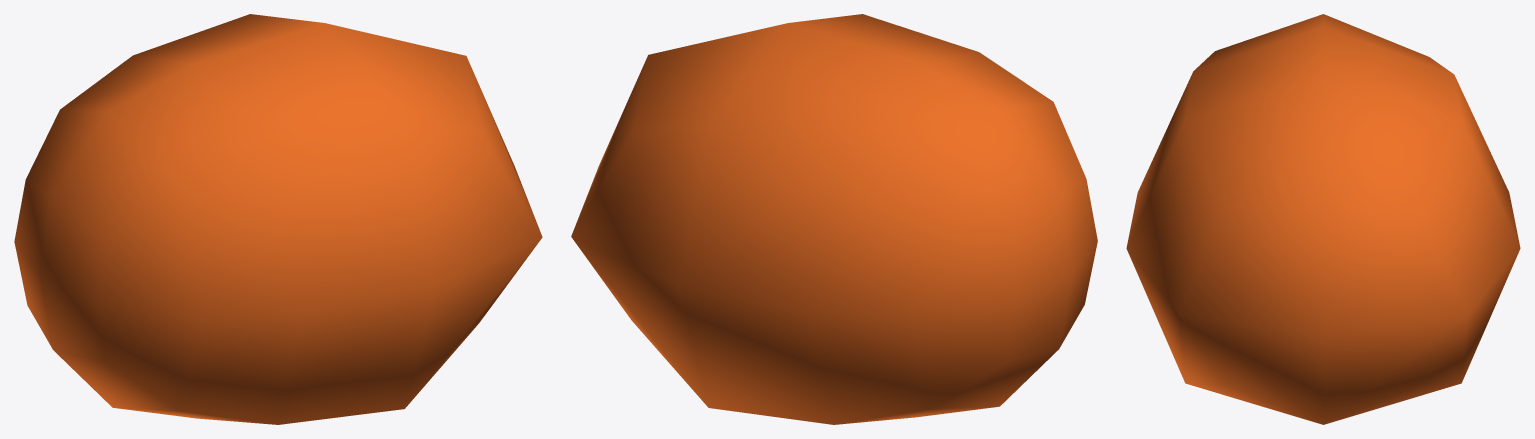
File: waddlebrazoifbx.fbx
The picture shows the model from 3 angles, left to right: view 1: azimuth 30°, elevation 25°; view 2: azimuth 150°, elevation 25°; view 3: azimuth 270°, elevation 25°; orthographic projection. The views are drawn at different scales.
Visible parts, largest first — view 1: brazoizquierdo; view 2: brazoizquierdo; view 3: brazoizquierdo.
Boxes of the visible parts, x1,y1,x2,y2 form: brazoizquierdo: (14,14,542,424); brazoizquierdo: (571,14,1097,424); brazoizquierdo: (1126,14,1520,424).
Bounding box in the file's own units: 88.42 × 66.04 × 69.51.
